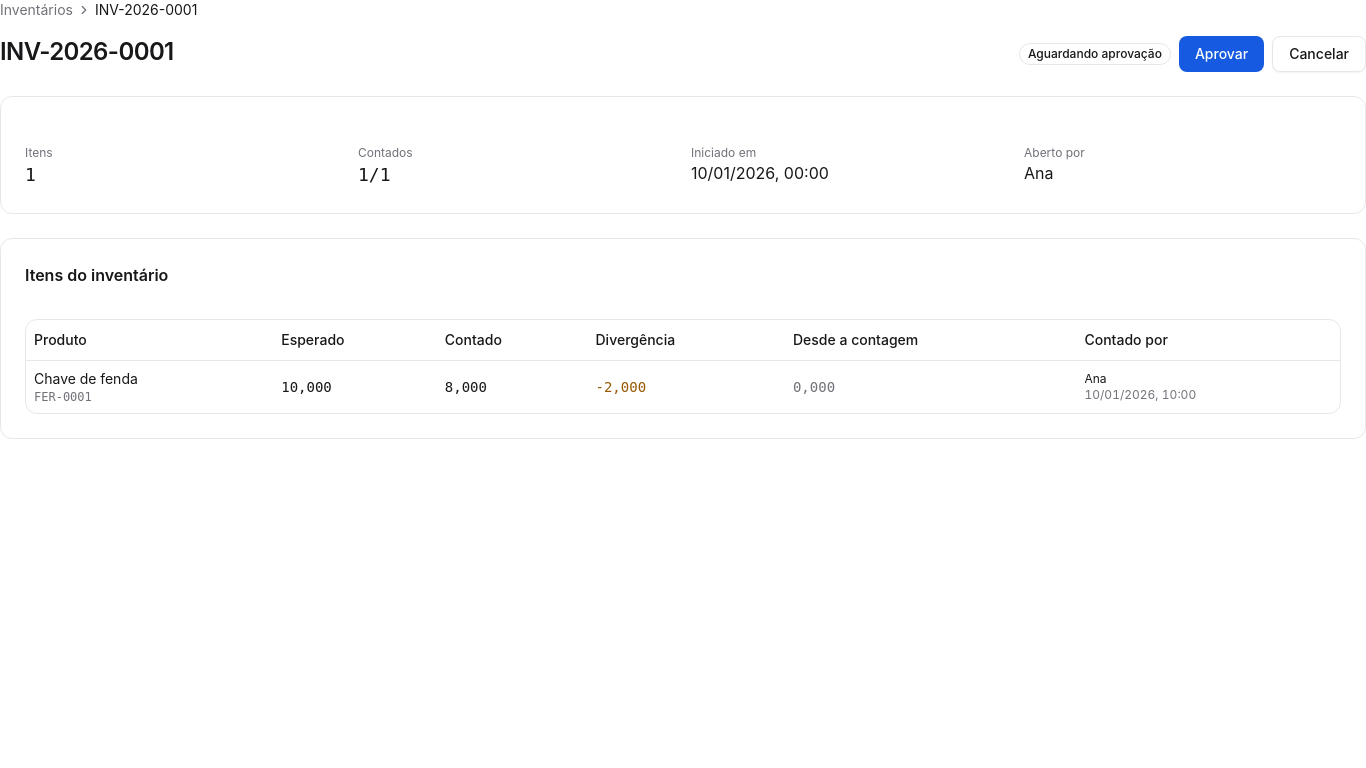
Test case: InventoryDetailPage › saldo insuficiente na aprovação (409) mostra mensagem, sem travar a tela
Expected: the text "Chave de fenda" is shown, [34, 370, 138, 386]
Click the button "Aprovar" at [1222, 54], box [1179, 36, 1264, 72]
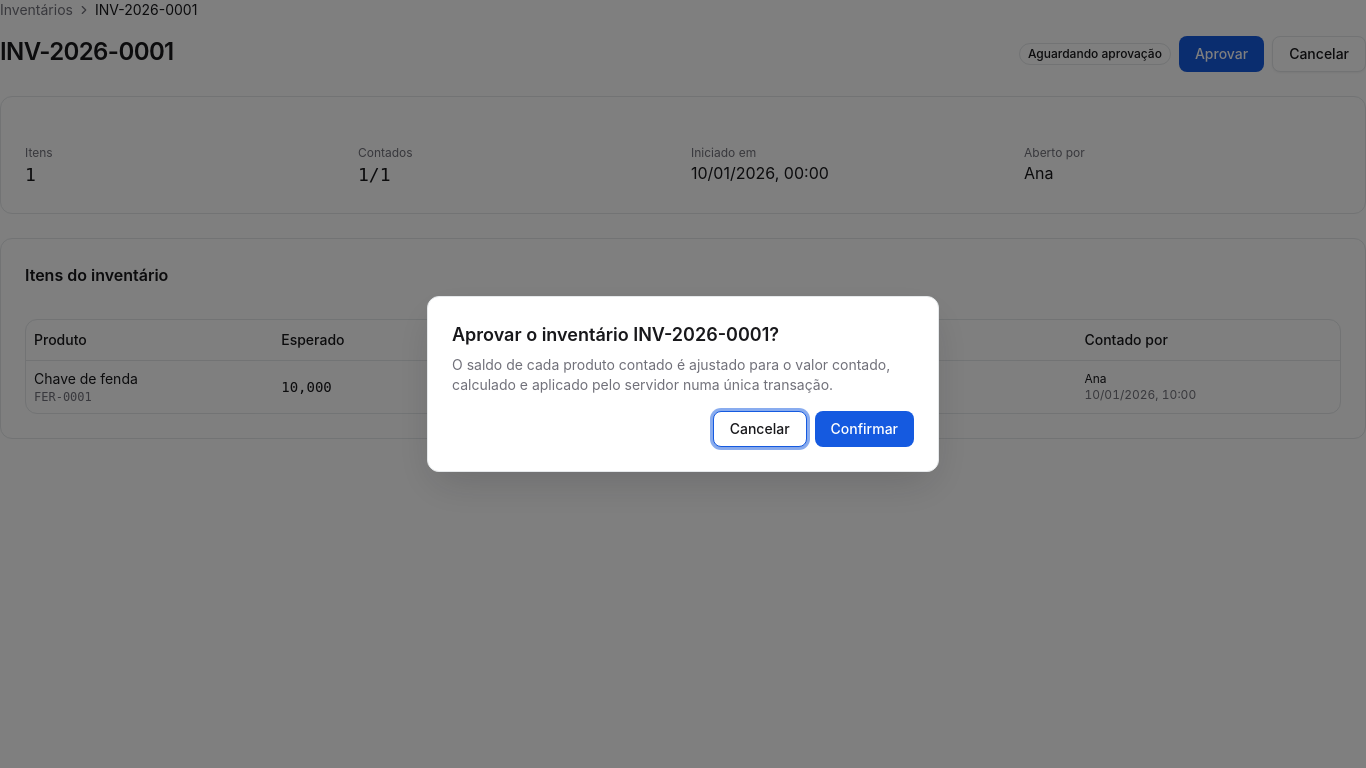
Click the button "Confirmar" at [864, 429], box [815, 411, 914, 447]
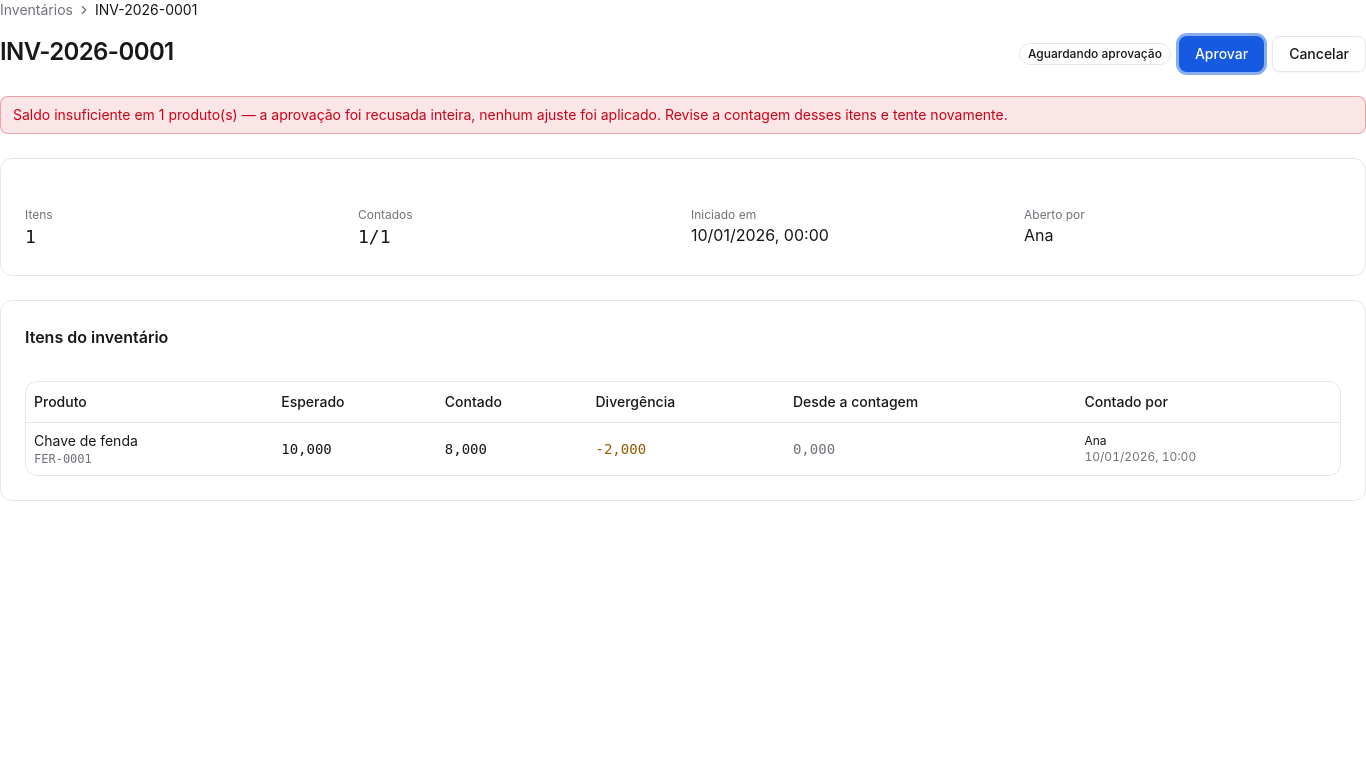
Expected: the button "Aprovar" is shown, [1179, 36, 1264, 72]
Result: the text "Saldo insuficiente em 1 produto" is shown at [13, 106, 1008, 123]
